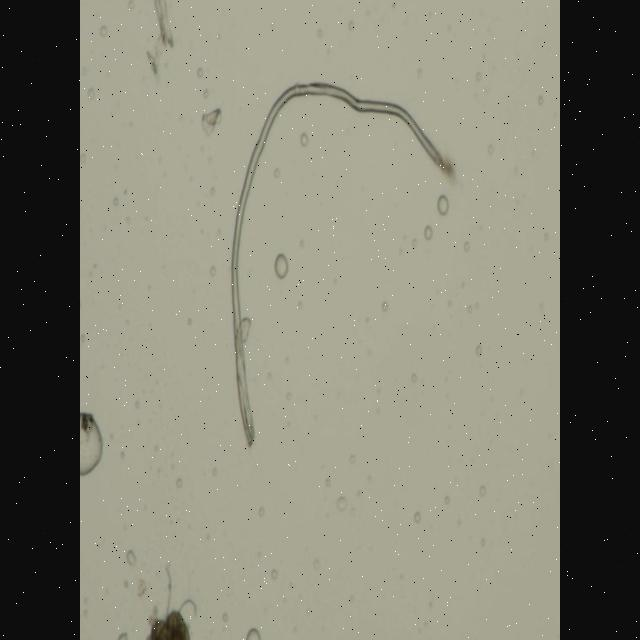Fibre: (230, 80, 454, 448)
